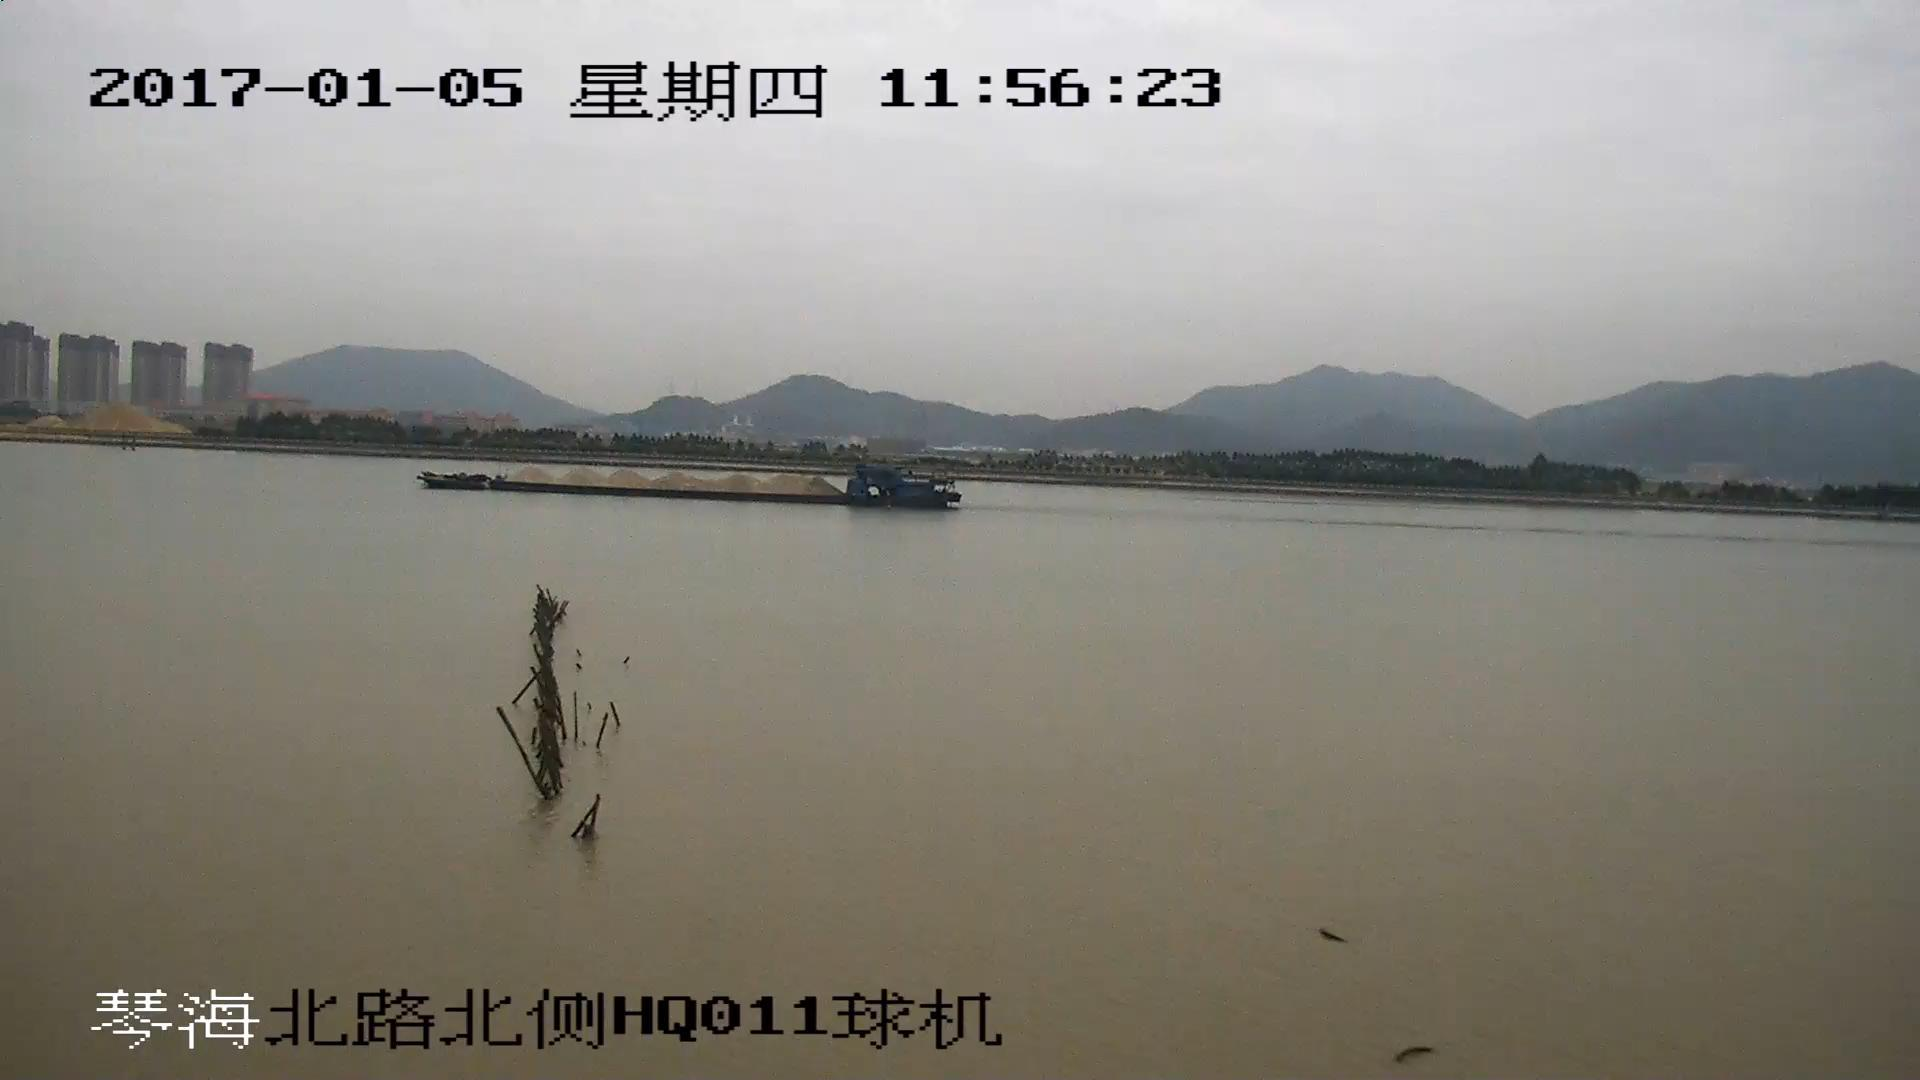Ship: (421, 465, 963, 512)
